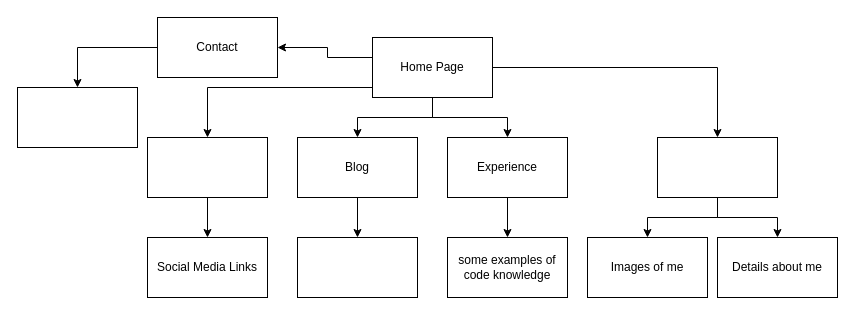
Image size: 855x315. Some labels were removed from this diagram. The shapes that lost their labels are listed below. From the top down, each one's centre as x and y in pixels, then its label:
[77,117]: Located on home page simple form with button
[207,167]: Footer & Header
[717,167]: About me
[357,267]: Blog about my web dev journey
